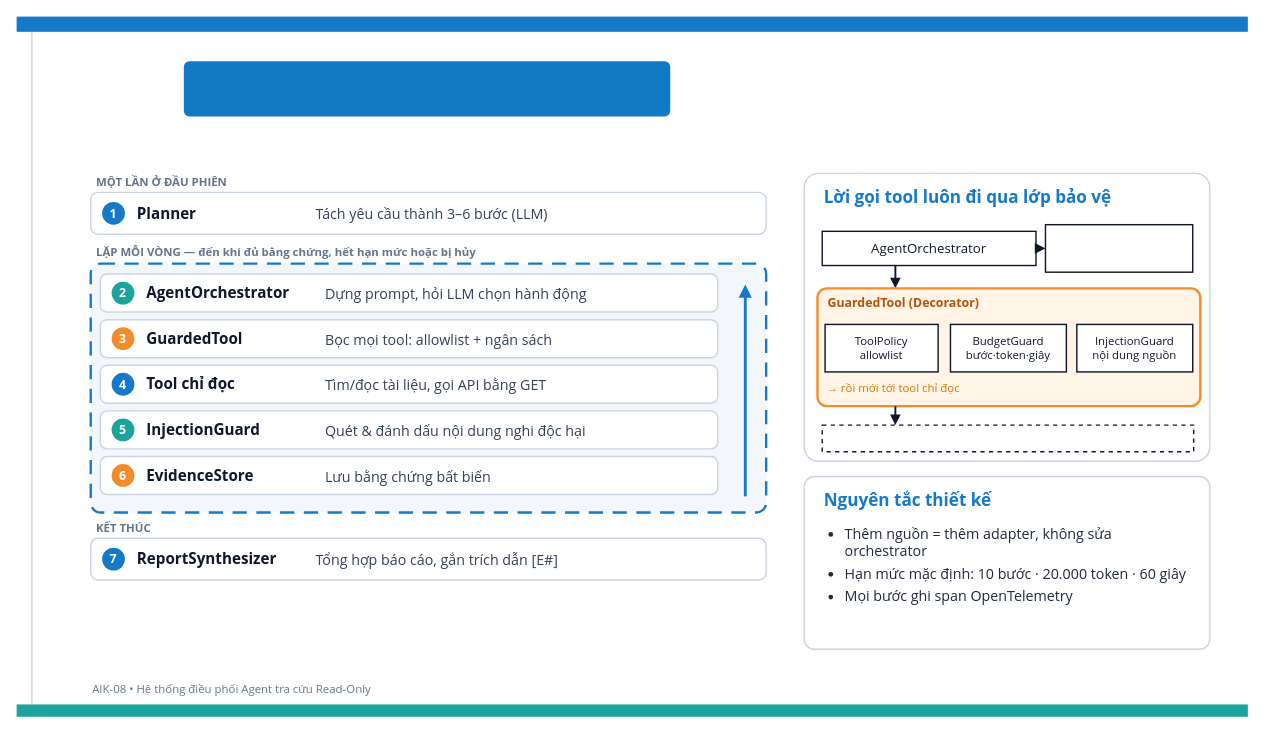
Image size: 1264x732. Some labels were removed from this diagram. Each missing label, with the centre of its shape:
Kiến trúc & luồng xử lý: point (426, 88)
LLM Provider chỉ đề xuất: point (1118, 248)
Nguồn: tài liệu (SELECT) · API ngoài (GET): point (1007, 438)
